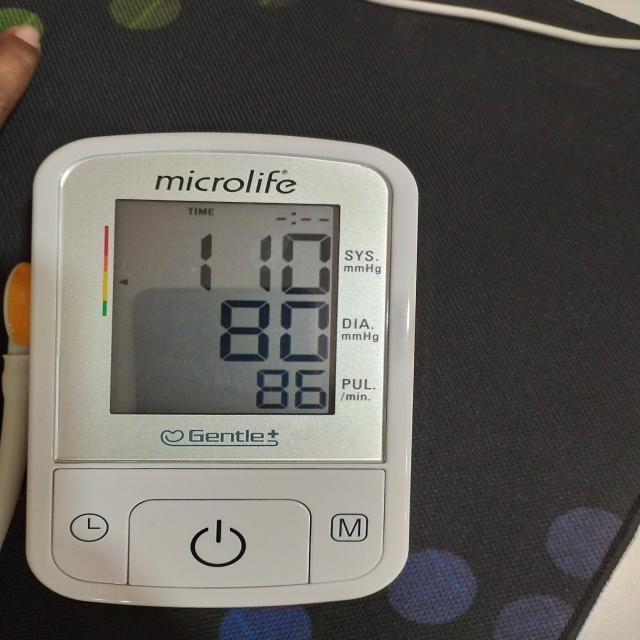bp: (22, 133, 420, 611)
